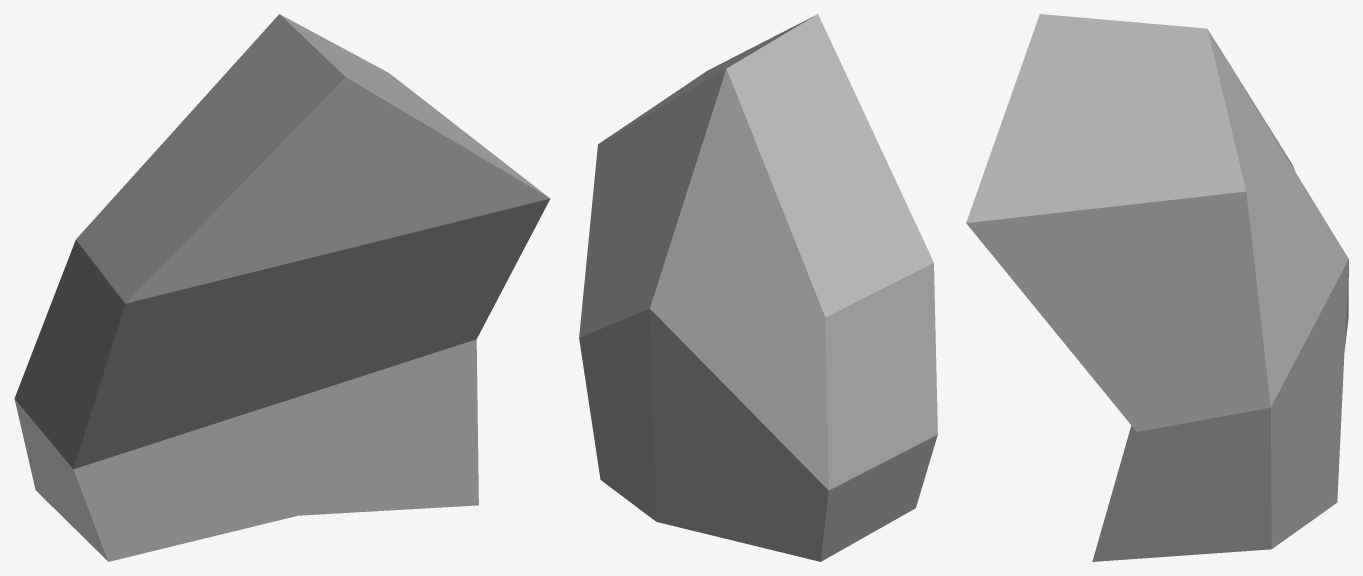
Rendered from rock_06_01.fbx.
3 views of the same model, side by side, from view 1: azimuth 30°, elevation 25°; view 2: azimuth 150°, elevation 25°; view 3: azimuth 270°, elevation 25° (orthographic). The views are drawn at different scales.
Visible parts, largest first — view 1: rock.001; view 2: rock.001; view 3: rock.001.
Part boxes in pixels (x1,y1,x2,y2): rock.001: (14, 14, 550, 561); rock.001: (579, 14, 937, 561); rock.001: (966, 14, 1348, 561).
Bounding box in the file's own units: 243 × 292 × 215.
